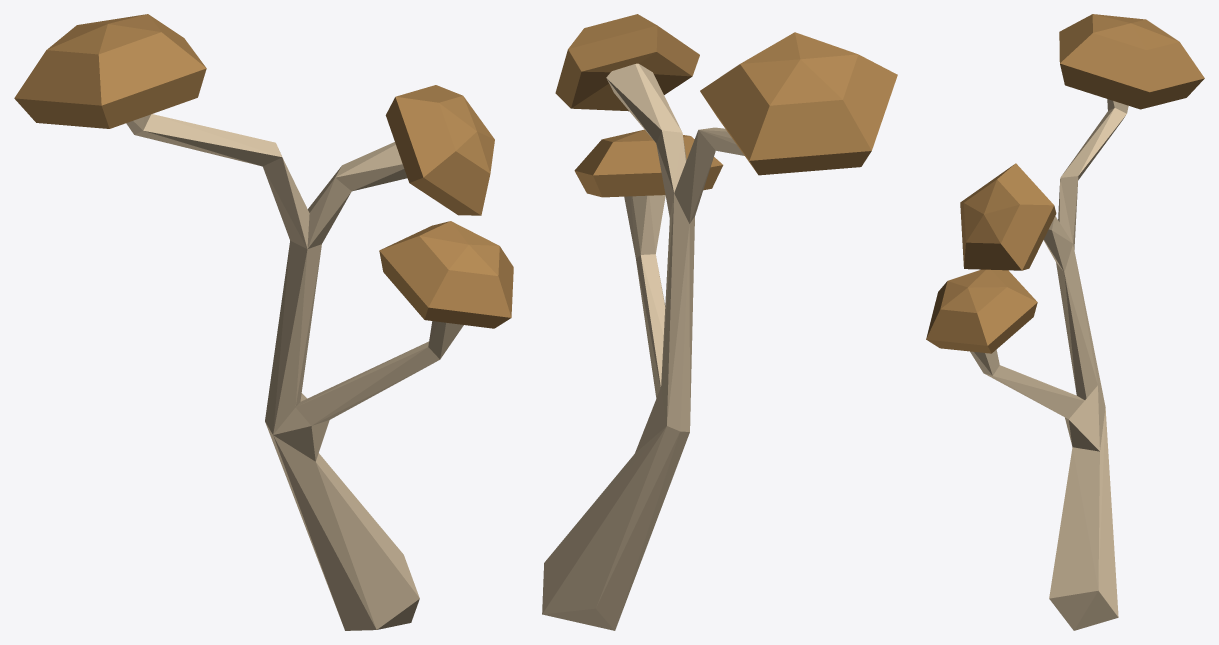
File: LPSciFi_AlienPlantE1.fbx
3 views of the same model, side by side, from view 1: azimuth 30°, elevation 25°; view 2: azimuth 150°, elevation 25°; view 3: azimuth 270°, elevation 25° (orthographic). The views are drawn at different scales.
Visible parts, largest first — view 1: AlienPlantE1; view 2: AlienPlantE1; view 3: AlienPlantE1.
Part boxes in pixels (left/top/right/bottom): AlienPlantE1: left=14, top=14, right=513, bottom=630; AlienPlantE1: left=542, top=14, right=897, bottom=630; AlienPlantE1: left=926, top=14, right=1204, bottom=630.
Size of the model in its own units: 234 by 361 by 180.
